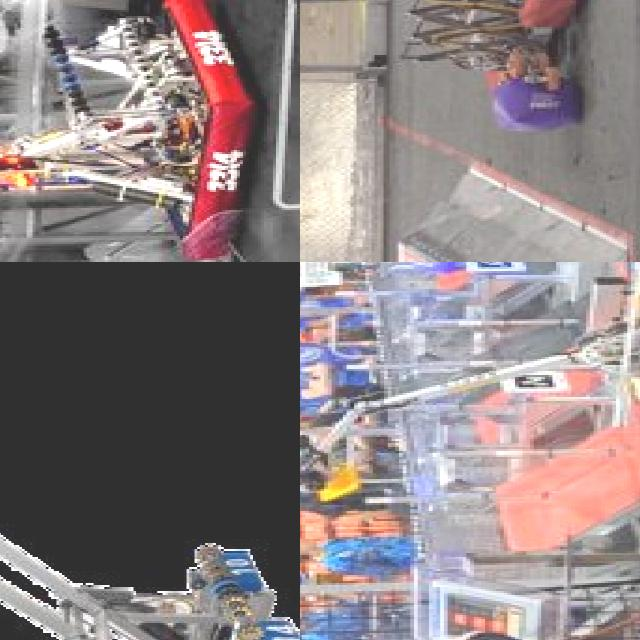FRC-Robots: (300, 262, 640, 530), (0, 0, 263, 262), (300, 0, 585, 161), (0, 502, 300, 640)
